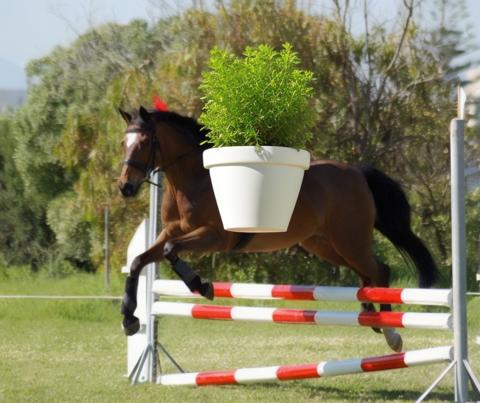horse: (116, 105, 406, 351)
pottedplant: (197, 41, 315, 237)
